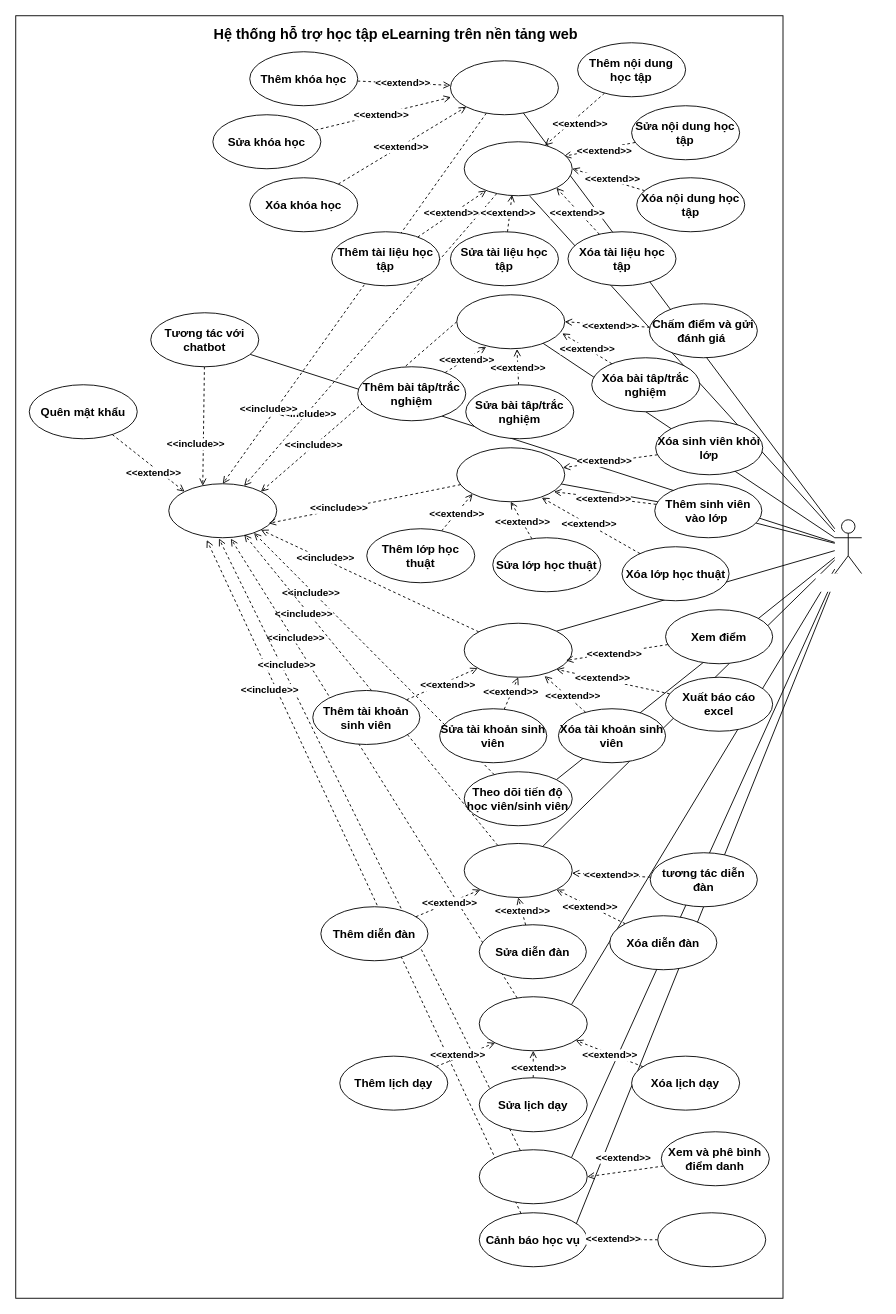
Image size: 896x1314. Some labels were removed from this diagram. Each missing label, with the centre of its shape:
Giảng viên: the point at 847,582
Gửi mail cảnh báo: the point at 711,1239
Quản lý bài kiểm tra và đánh giá bài làm: the point at 510,321
Quản lý diễn đàn: the point at 517,870
Quản lý học viên/sinh viên: the point at 517,649
Quản lý khóa học: the point at 504,87
Quản lý lịch dạy: the point at 532,1023
Quản lý lớp học thuật: the point at 510,474
Quản lý nội dung học tập: the point at 517,168
Quản lý điểm danh: the point at 532,1176
Đăng nhập: the point at 222,510
